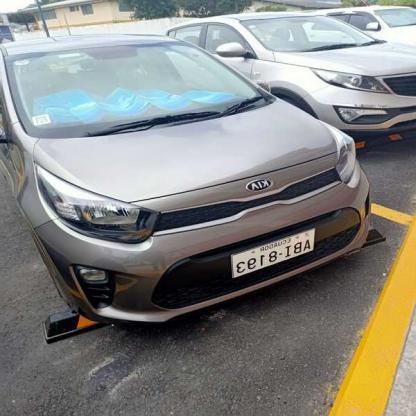Placa: (230, 222, 320, 284)
